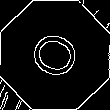O_SE: (23, 25, 87, 85)
